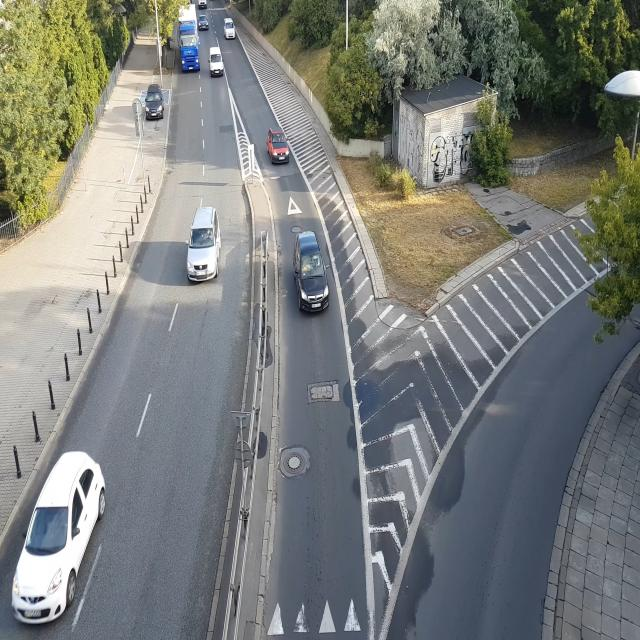car: (10, 437, 111, 618), (292, 225, 332, 314), (183, 200, 223, 286), (144, 81, 165, 124), (209, 45, 225, 79), (225, 14, 236, 41), (200, 16, 210, 32), (198, 0, 210, 9)
truck: (176, 0, 201, 79)
